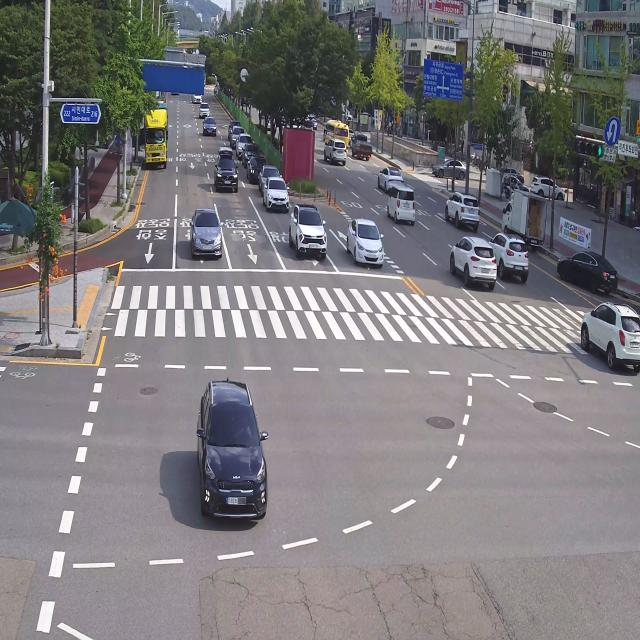Bus: (324, 119, 350, 155)
Car: (183, 362, 273, 530), (574, 294, 640, 384), (438, 234, 501, 304), (552, 243, 622, 300), (284, 192, 327, 270), (343, 205, 391, 272), (181, 200, 228, 264), (489, 226, 532, 289), (442, 186, 488, 241), (207, 150, 241, 194), (388, 180, 416, 227), (530, 172, 567, 204), (376, 160, 404, 193), (431, 156, 470, 178), (266, 177, 289, 213), (326, 138, 348, 169), (259, 164, 281, 191), (246, 154, 266, 183), (494, 165, 525, 182), (236, 132, 252, 157), (201, 115, 217, 138), (243, 141, 259, 163), (230, 123, 242, 146), (217, 143, 233, 159), (198, 101, 211, 119), (228, 119, 240, 134), (192, 90, 203, 105)
Truck: (497, 181, 548, 253), (142, 90, 169, 176), (352, 128, 373, 168)
